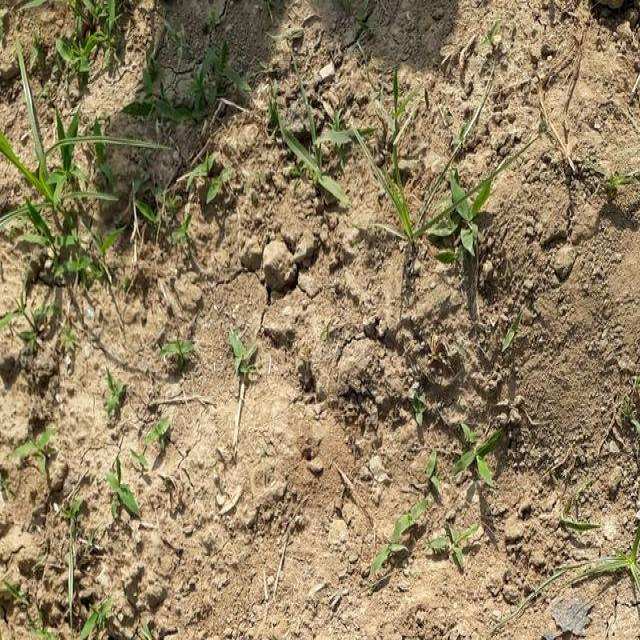weed: (0, 0, 116, 283), (368, 138, 501, 260)
